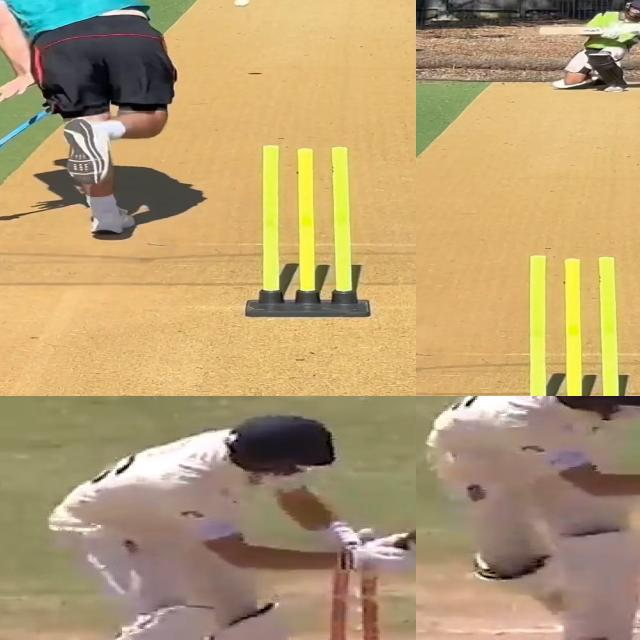Cricket ball: (232, 0, 253, 8)
Stumps: (507, 251, 639, 396), (327, 536, 416, 640)
